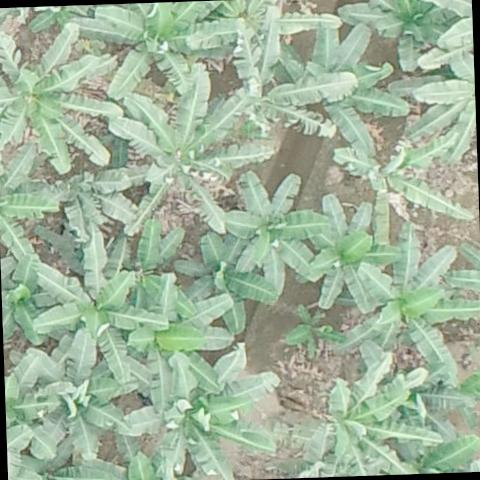Banana-plant: (115, 64, 279, 238), (332, 233, 480, 391), (118, 350, 281, 480), (0, 19, 127, 176), (26, 266, 166, 387), (333, 125, 478, 241), (74, 0, 238, 98), (298, 366, 440, 478), (303, 24, 410, 162), (224, 169, 327, 295), (296, 194, 402, 316), (128, 292, 238, 408), (26, 344, 125, 464), (177, 236, 284, 337), (40, 168, 140, 274), (235, 60, 358, 146), (209, 0, 343, 69), (371, 362, 469, 456), (402, 44, 476, 162), (341, 0, 463, 70), (4, 348, 60, 456), (0, 143, 51, 260), (1, 252, 54, 348), (286, 308, 346, 363)
